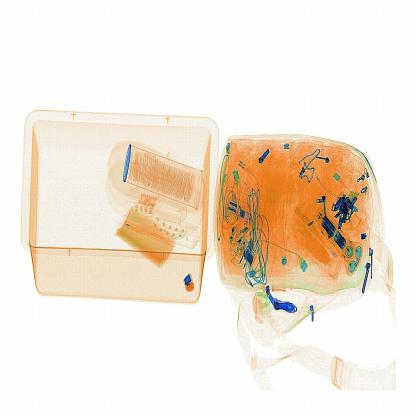wrench: (179, 271, 197, 296)
